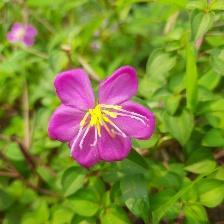malabar melastome: (47, 67, 158, 170)
